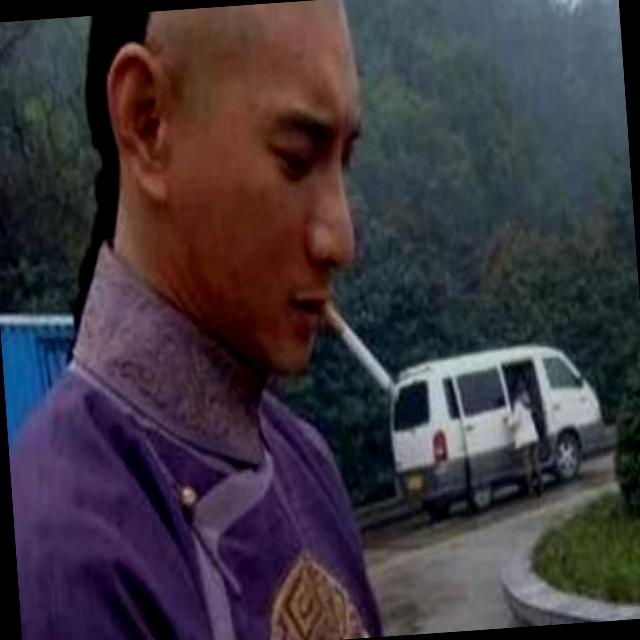smoke: (319, 280, 397, 408)
